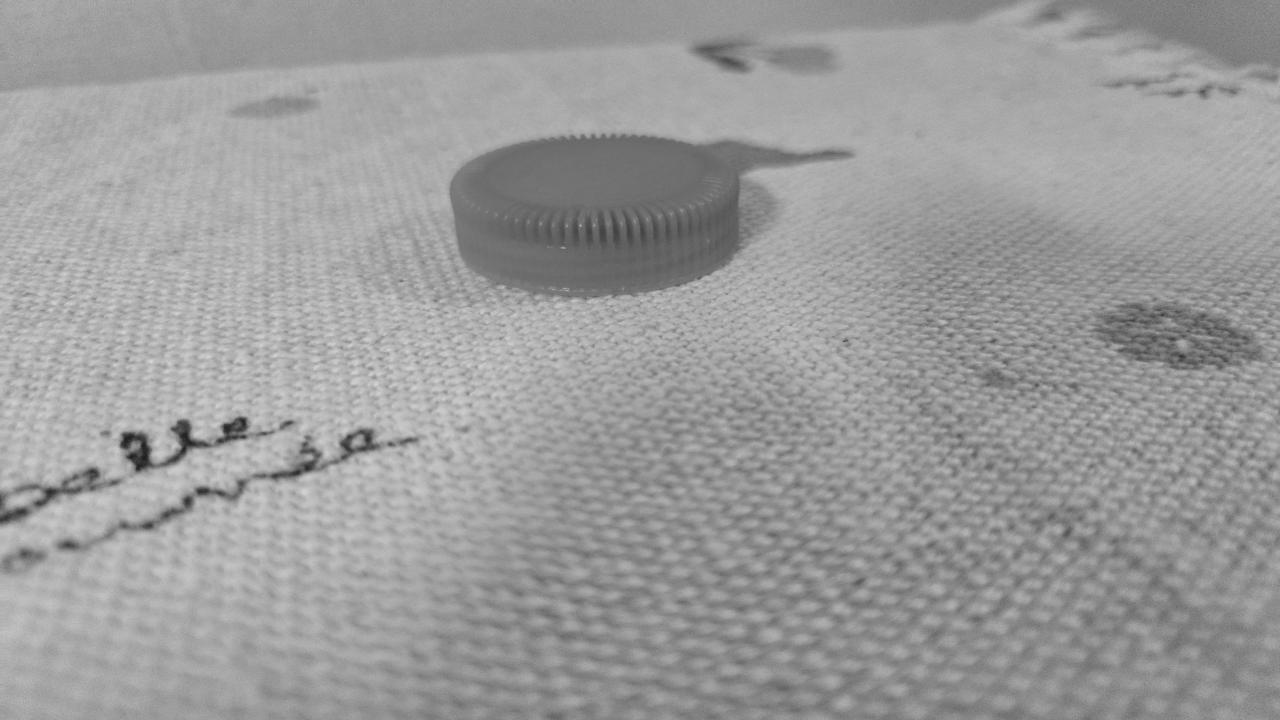bottle_cap: (444, 130, 750, 297)
